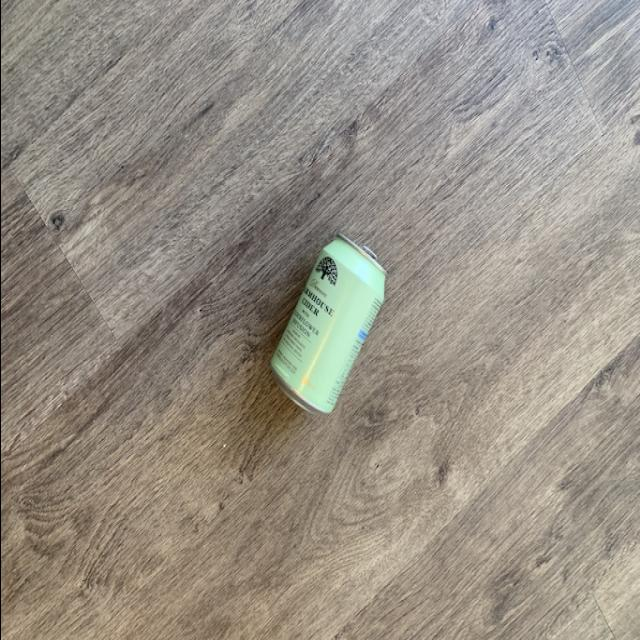Aluminum Can: (267, 222, 390, 418)
